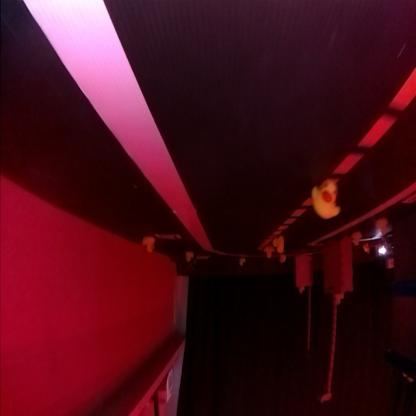Duckie: (314, 182, 342, 220), (143, 237, 155, 254), (273, 237, 285, 254), (376, 219, 388, 236), (264, 247, 276, 259), (352, 232, 362, 246), (336, 295, 344, 306), (186, 253, 194, 263), (364, 244, 370, 254), (299, 286, 305, 294), (242, 259, 246, 267)
Duckiebot: (375, 239, 394, 259)
QR code: (157, 233, 181, 241)
